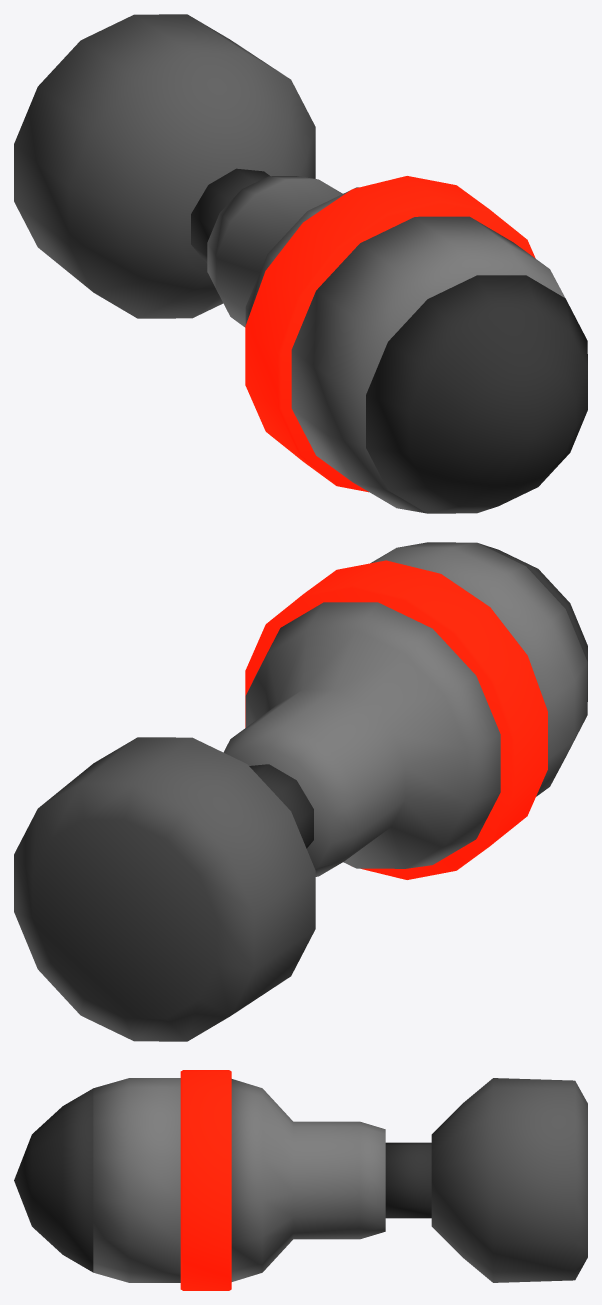
The model's file is newshl-134.glb.
The picture shows the model from 3 angles, top to bottom: view 1: azimuth 30°, elevation 25°; view 2: azimuth 150°, elevation 25°; view 3: azimuth 270°, elevation 25°; orthographic projection. The views are drawn at different scales.
Visible parts, largest first — view 1: newshl-134; view 2: newshl-134; view 3: newshl-134.
Boxes of the visible parts, x1,y1,x2,y2 form: newshl-134: (14, 14, 587, 513); newshl-134: (14, 542, 587, 1041); newshl-134: (14, 1070, 587, 1290).
Size of the model in its own units: 0.3564 by 0.3564 by 0.9333.
